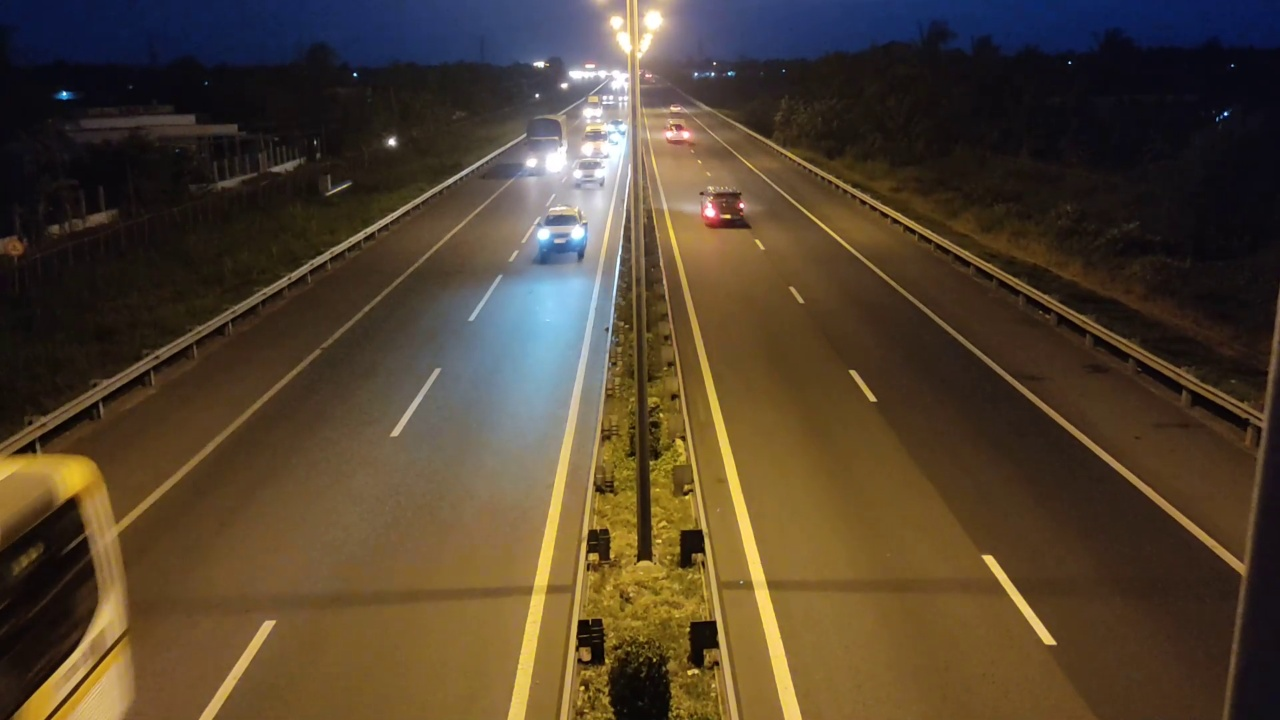car: (533, 206, 589, 264), (699, 185, 749, 228), (571, 157, 607, 189), (663, 123, 695, 147)
